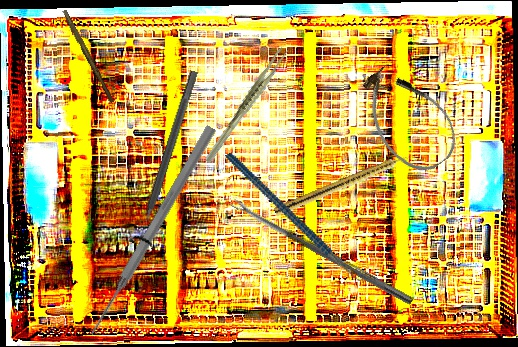Cannula: (346, 52, 470, 184)
Chopper: (225, 121, 374, 315)
Fixation Ring: (127, 67, 209, 250)
Handpiece: (273, 150, 413, 220)
Pusher: (84, 123, 219, 339)
Scalpel Handle: (59, 9, 117, 104)
Surgical Spoon: (230, 197, 415, 306)
Tissue Forceps: (185, 44, 307, 165)
